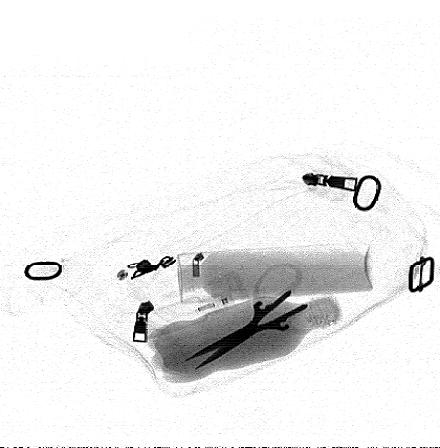Scissors: (178, 261, 347, 373)
